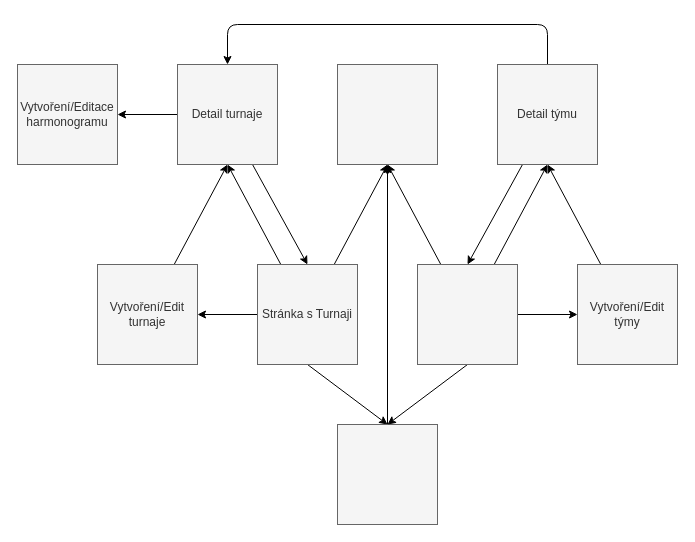
Some shapes in this 695 by 542 pixel diagram are drawn without their labels. The shapes that lost their labels are listed below. From the top down, each one's centre as x and y in pixels, then its label:
point 387,114: (Můj) Detail profilu
point 467,314: Stránka s Týmy
point 387,474: Přihlášení
